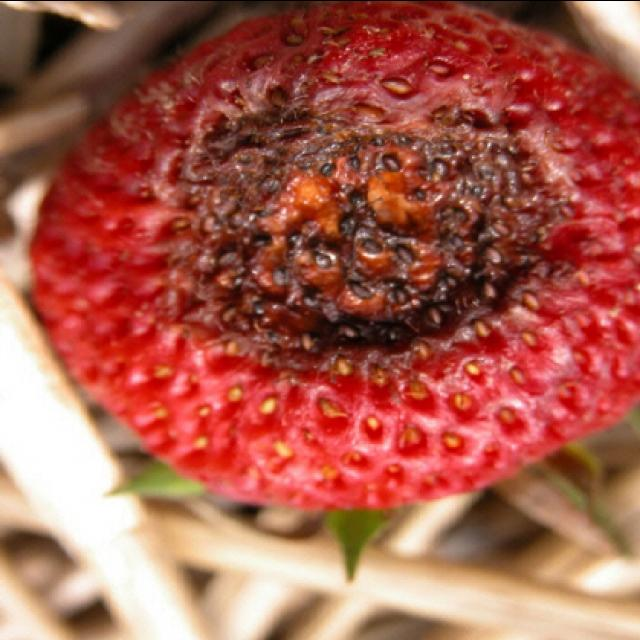Anthracnose Fruit Rot: (136, 49, 578, 400)
